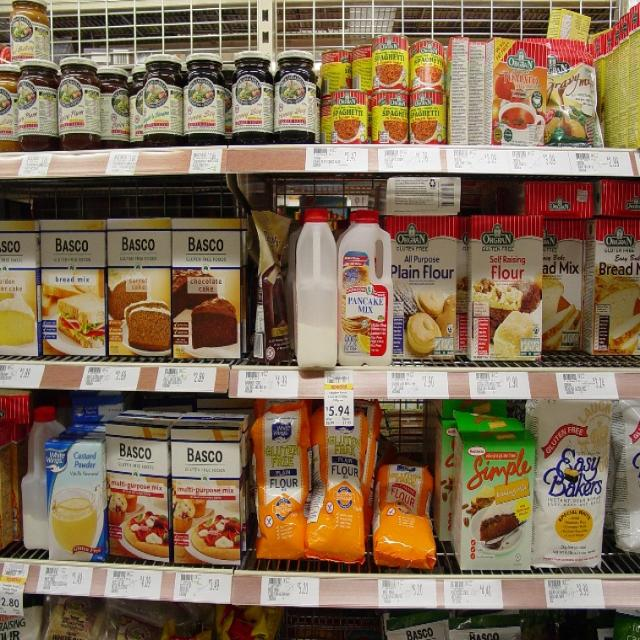q187: (336, 199, 399, 375)
